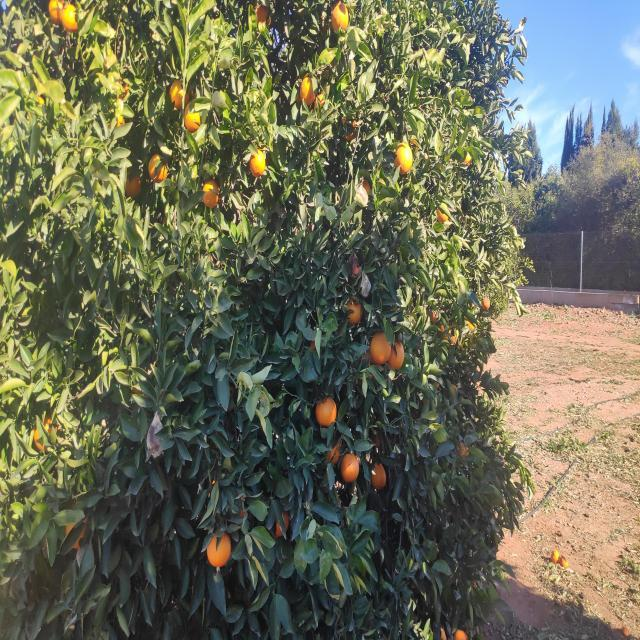Jeruk Sudah Matang: (208, 532, 232, 568), (34, 419, 58, 452), (369, 331, 392, 364), (65, 518, 88, 548), (317, 396, 337, 426), (395, 142, 413, 174), (342, 452, 359, 483), (331, 3, 349, 30), (371, 462, 388, 490), (149, 154, 168, 179), (340, 115, 358, 141), (170, 82, 187, 109), (202, 178, 218, 206), (300, 78, 316, 104), (255, 5, 272, 28), (390, 342, 404, 369), (250, 152, 265, 177), (124, 175, 140, 198), (49, 0, 64, 23), (348, 301, 362, 325), (186, 107, 200, 131), (64, 6, 78, 30), (274, 512, 288, 536), (326, 444, 339, 467), (438, 324, 451, 342), (438, 203, 448, 224), (314, 95, 326, 112), (452, 629, 468, 640), (456, 439, 465, 458), (362, 179, 372, 195), (350, 256, 358, 275), (119, 84, 129, 99), (482, 296, 491, 310), (428, 310, 436, 324), (116, 116, 124, 128), (467, 321, 475, 331), (452, 384, 458, 397), (310, 340, 316, 350), (451, 336, 456, 344)
